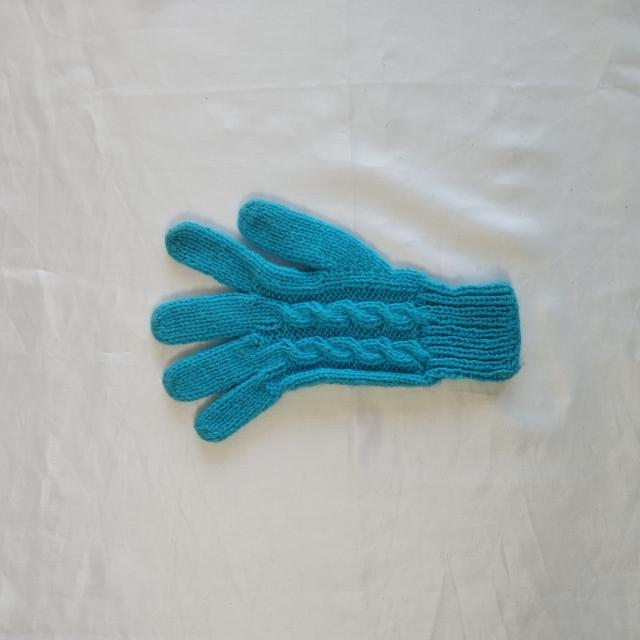Guante: (150, 197, 523, 443)
